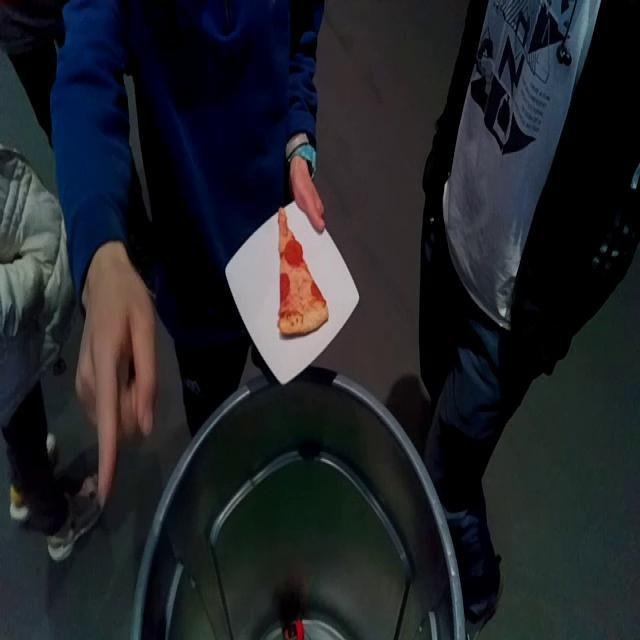Anorganik: (227, 193, 361, 381)
Organik: (278, 200, 330, 338)
